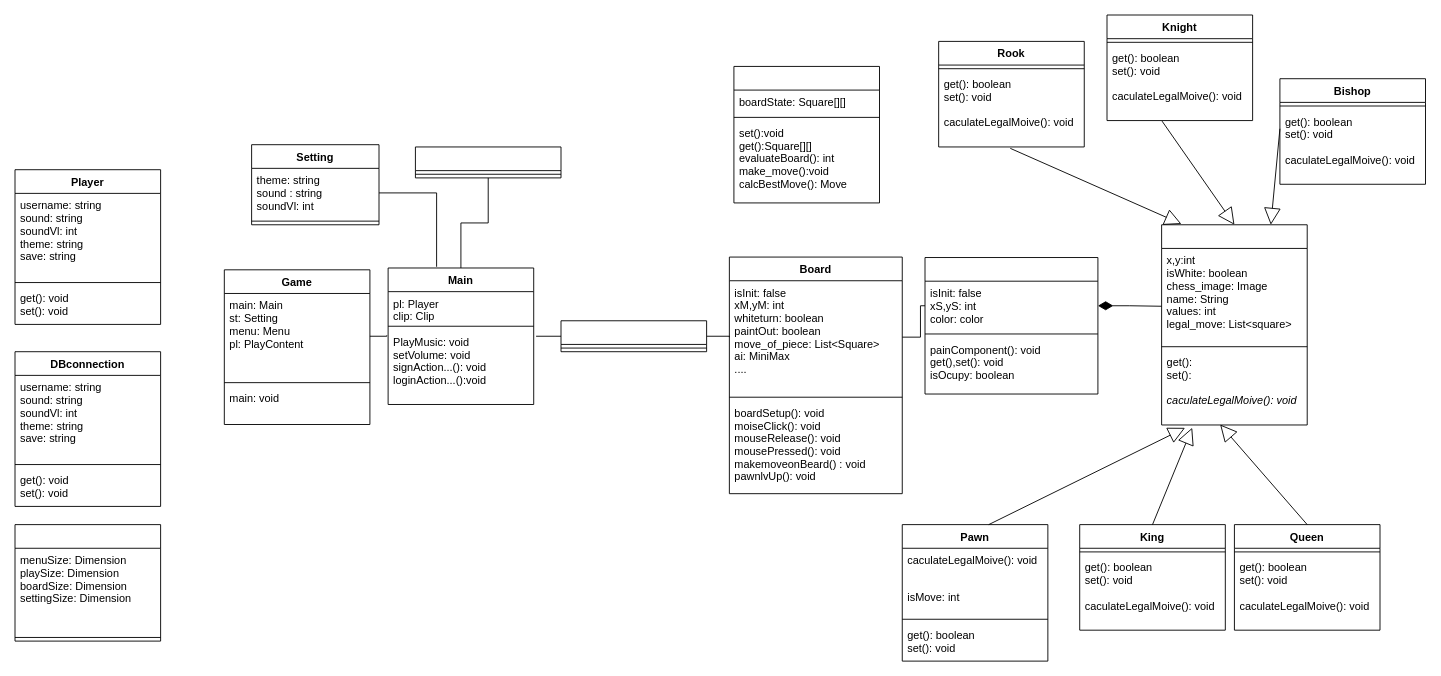
Image size: 1441x676. Some labels were removed from this diagram. Here are the shapes that lost their labels. From the top down, the box of each, then its label:
(733, 66, 880, 203): MiniMax
(415, 146, 561, 178): Menu
(560, 320, 707, 352): PlayContent
(924, 257, 1098, 394): Square
(1161, 224, 1307, 425): Piece
(14, 524, 161, 641): Utility
